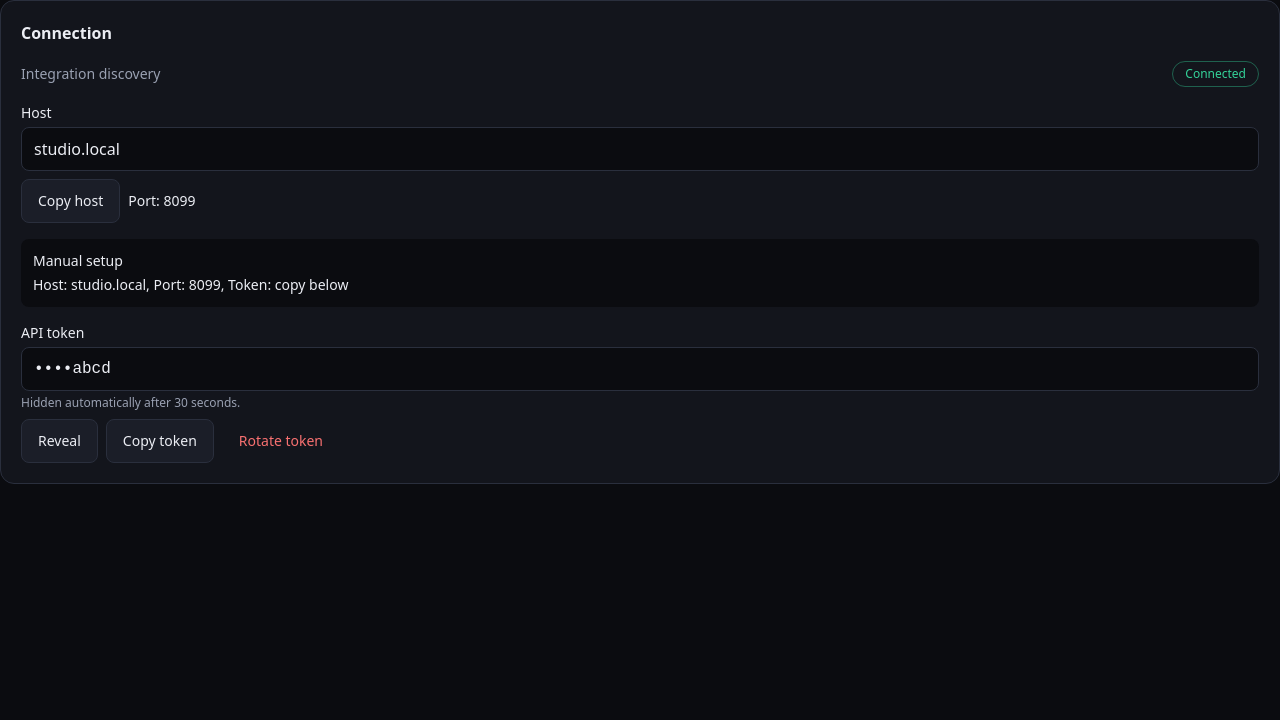
Test: shows token fetch errors inline and releases pending state
Click the button with test id "reveal-token": (59, 441) [21,419,98,463]
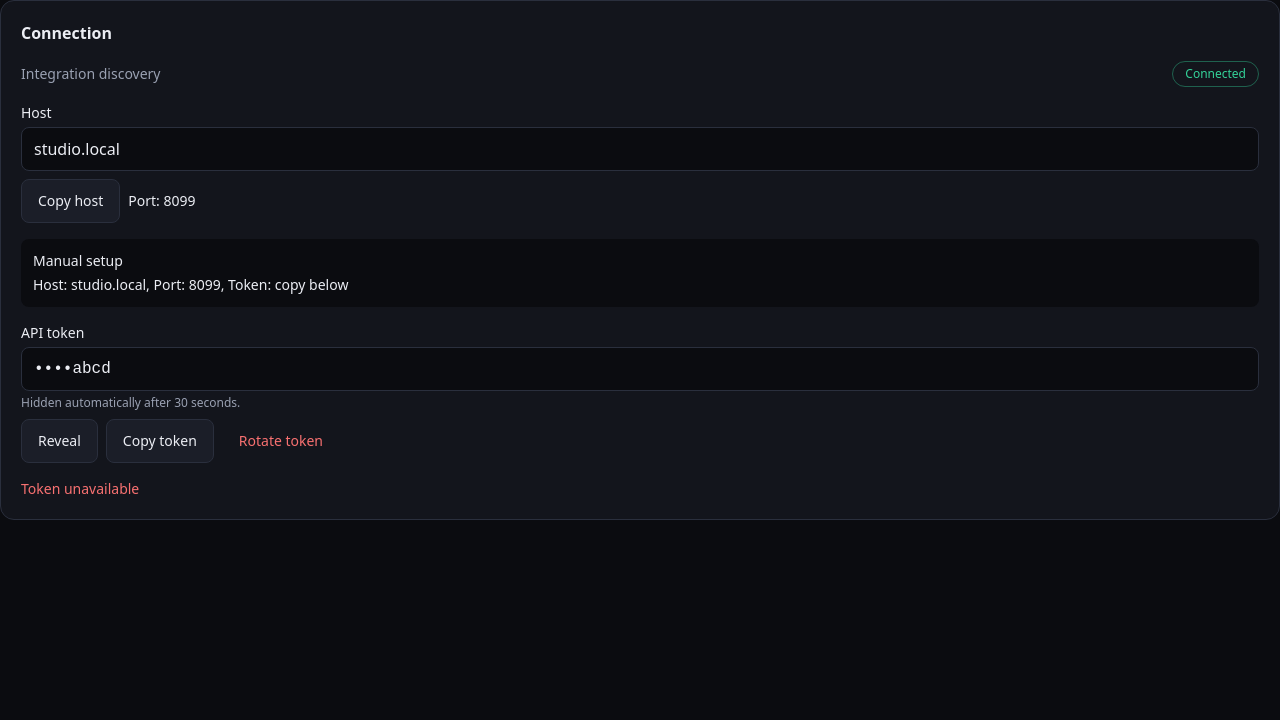
Expected: the message "Token unavailable" is shown, [21,479,139,498]
